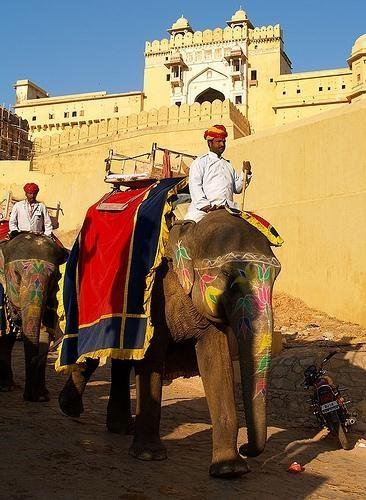motorcycle: (304, 351, 354, 450)
